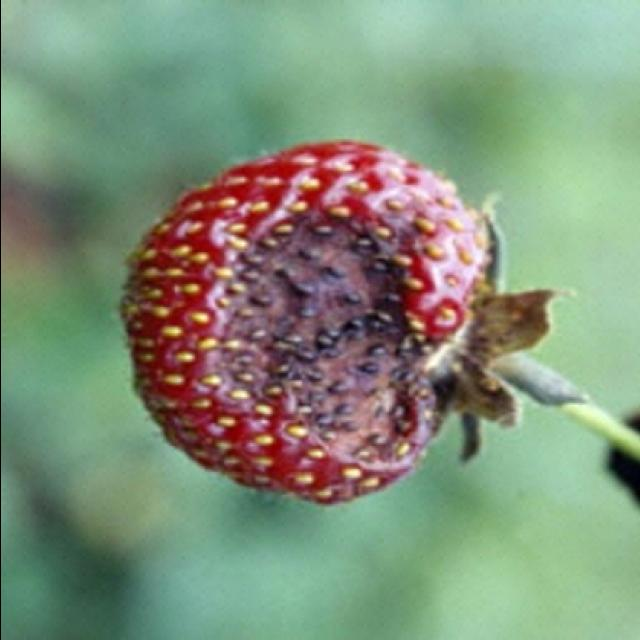Anthracnose Fruit Rot: (227, 232, 397, 444)
